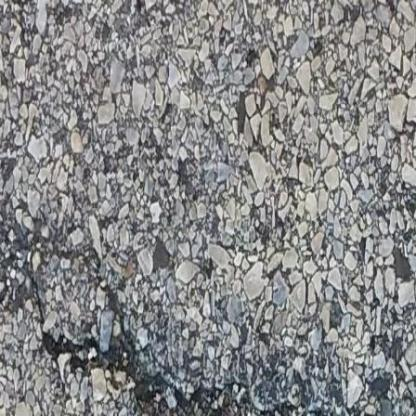Cracks: (17, 251, 353, 416)
